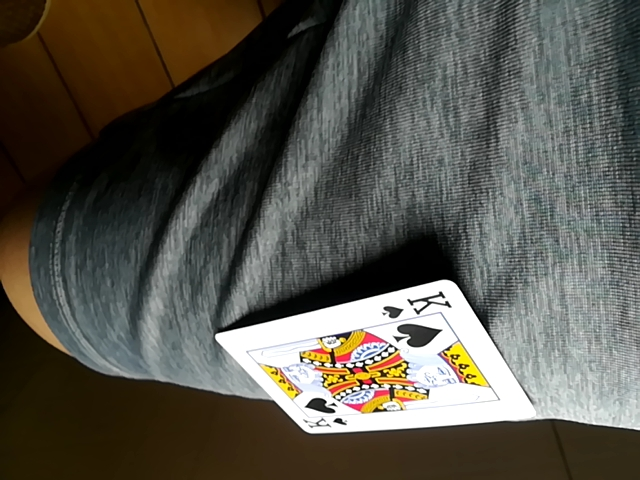ht k: (221, 278, 535, 437)
